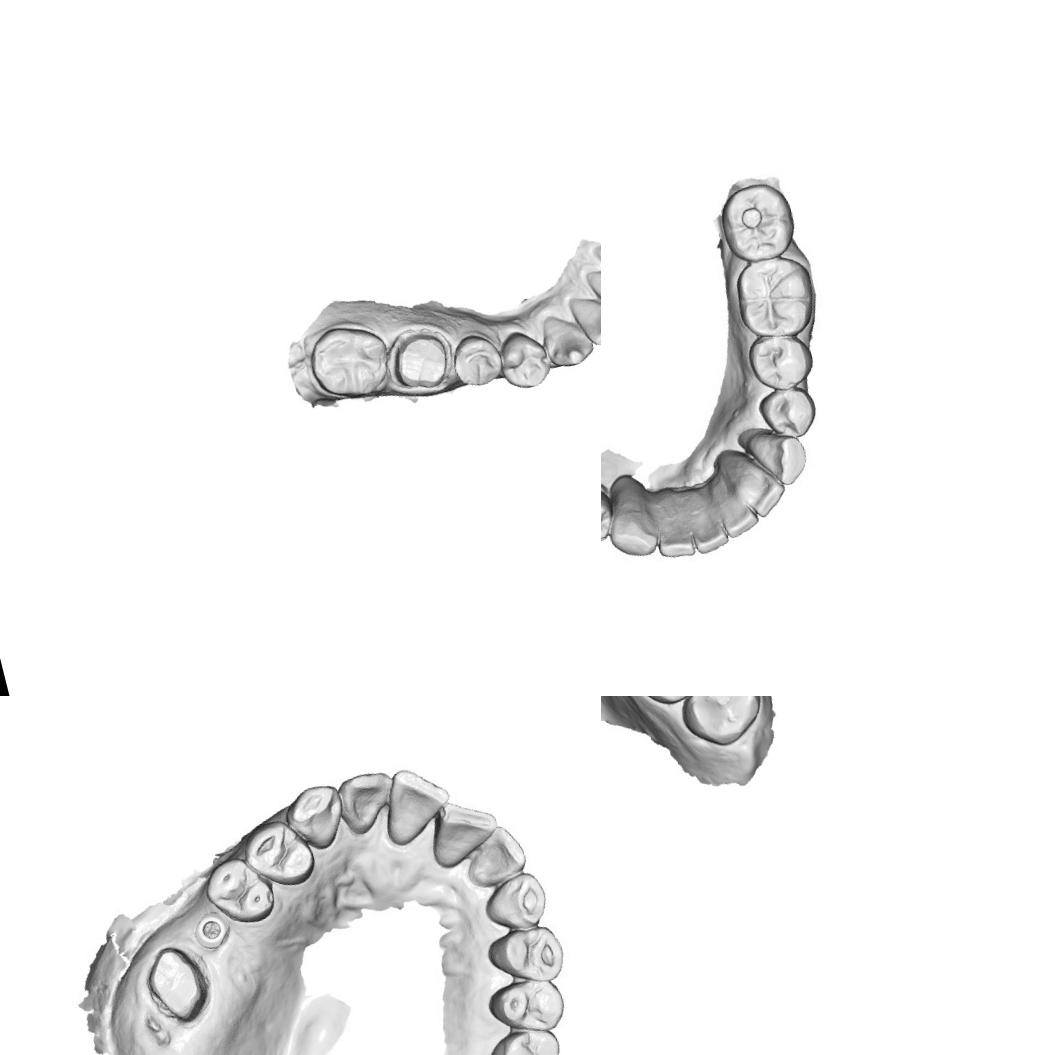canine: (740, 420, 818, 492), (478, 866, 554, 936), (280, 780, 350, 854), (604, 490, 662, 564), (535, 303, 598, 371)
crown: (134, 938, 214, 1034), (384, 325, 456, 398)
implant: (190, 908, 236, 954)
incisor: (372, 758, 456, 846), (418, 791, 506, 870), (715, 440, 791, 524), (333, 760, 402, 838), (458, 820, 532, 892), (706, 467, 764, 544), (644, 485, 701, 562), (678, 478, 732, 558), (565, 285, 601, 351), (582, 255, 601, 322)
molar: (727, 248, 820, 345), (302, 316, 397, 410), (712, 174, 802, 268), (669, 696, 770, 756), (478, 1018, 571, 1055)
premolar: (198, 847, 284, 936), (236, 810, 318, 895), (479, 917, 569, 994), (484, 969, 570, 1043), (742, 322, 820, 402), (492, 324, 554, 394), (757, 380, 822, 444), (446, 327, 506, 392), (601, 477, 618, 551)
